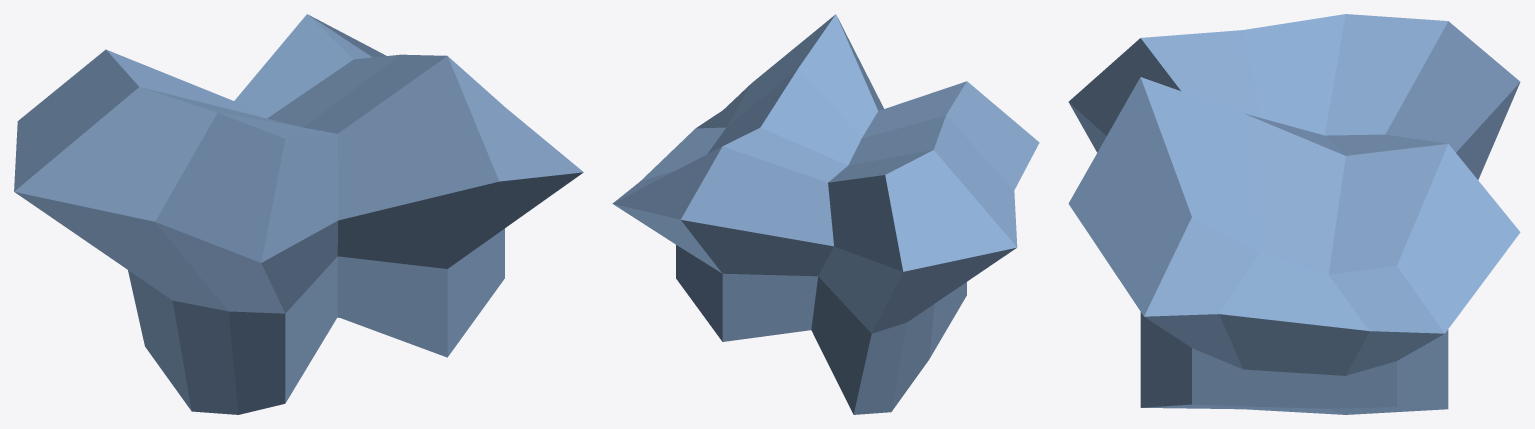
Rendered from debris5.fbx.
3 views of the same model, side by side, from view 1: azimuth 30°, elevation 25°; view 2: azimuth 150°, elevation 25°; view 3: azimuth 270°, elevation 25° (orthographic). The views are drawn at different scales.
Visible parts, largest first — view 1: Cube; view 2: Cube; view 3: Cube.
Boxes of the visible parts, left/top/right/bottom form: Cube: left=14, top=14, right=583, bottom=414; Cube: left=612, top=14, right=1039, bottom=414; Cube: left=1068, top=14, right=1520, bottom=414.
Bounding box in the file's own units: 144 × 114 × 110.
